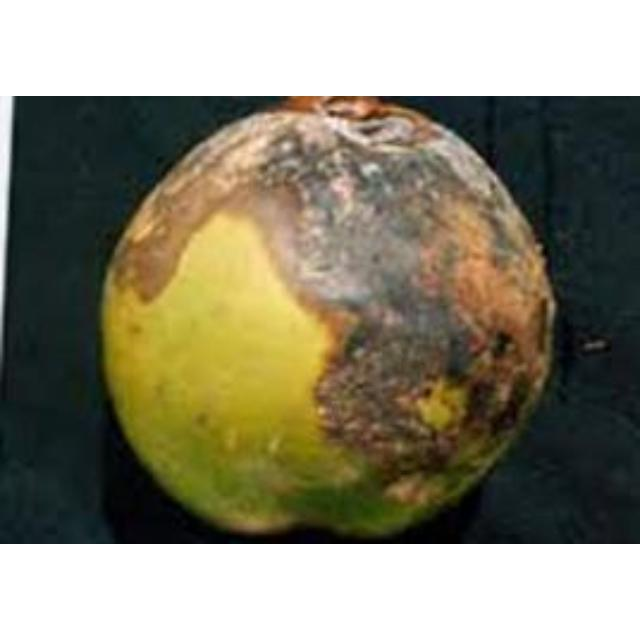damaged: (93, 96, 559, 543)
